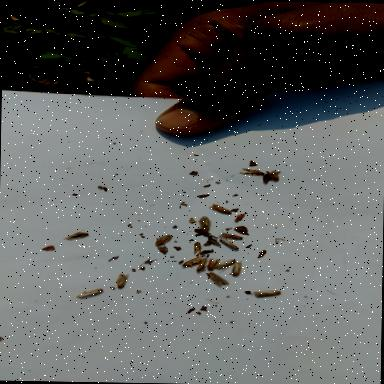pbw: (193, 214, 215, 232), (206, 272, 231, 286), (75, 287, 104, 299), (180, 255, 206, 268), (64, 229, 90, 242), (205, 203, 232, 215), (250, 290, 282, 300), (214, 257, 238, 270), (194, 255, 210, 273), (217, 238, 241, 250), (151, 234, 175, 246), (116, 274, 132, 290), (230, 261, 246, 277), (206, 256, 221, 272), (218, 231, 244, 240), (240, 167, 266, 176), (266, 170, 284, 182), (192, 242, 202, 254)
